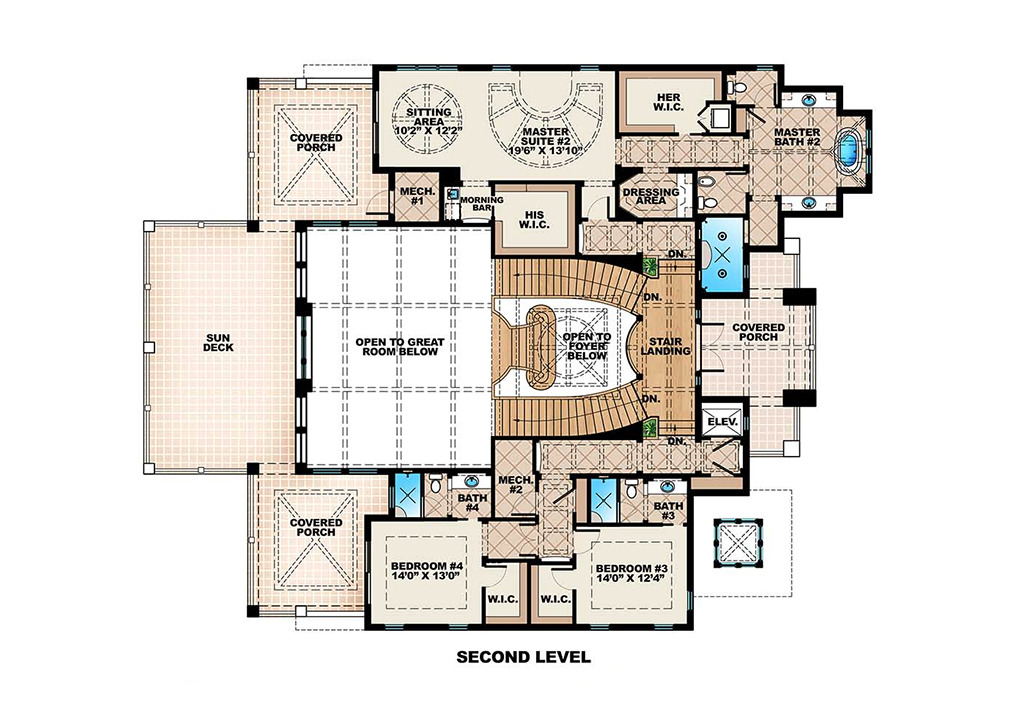door: (700, 320, 727, 373), (363, 187, 393, 219), (575, 526, 601, 558), (482, 561, 510, 588), (550, 563, 577, 591), (583, 194, 609, 223)
large_sink: (722, 76, 751, 103), (422, 470, 442, 497), (624, 474, 639, 502), (693, 195, 717, 212)
small_sink: (780, 192, 837, 216), (777, 91, 833, 113), (645, 474, 690, 499), (453, 472, 489, 492)
stairs: (477, 385, 651, 437), (492, 254, 650, 307), (486, 303, 562, 393)
tub: (830, 123, 864, 181)
windows: (295, 308, 317, 389), (392, 62, 460, 74)
